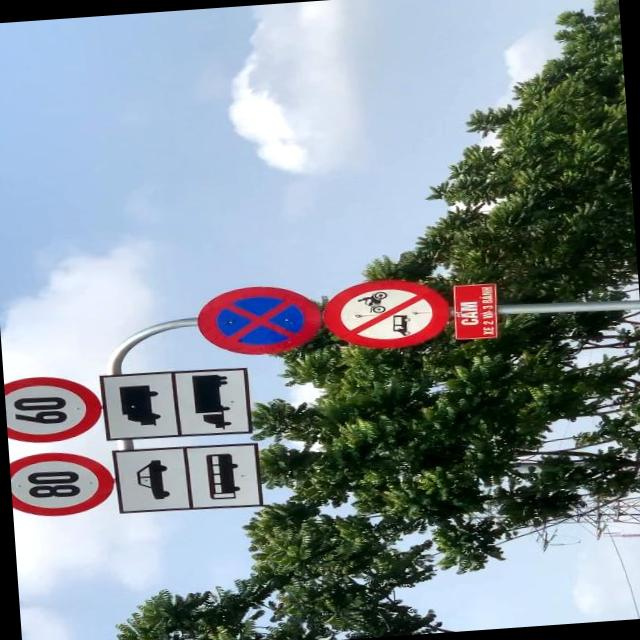P-104: (319, 275, 452, 355)
P-130: (194, 283, 320, 357)
